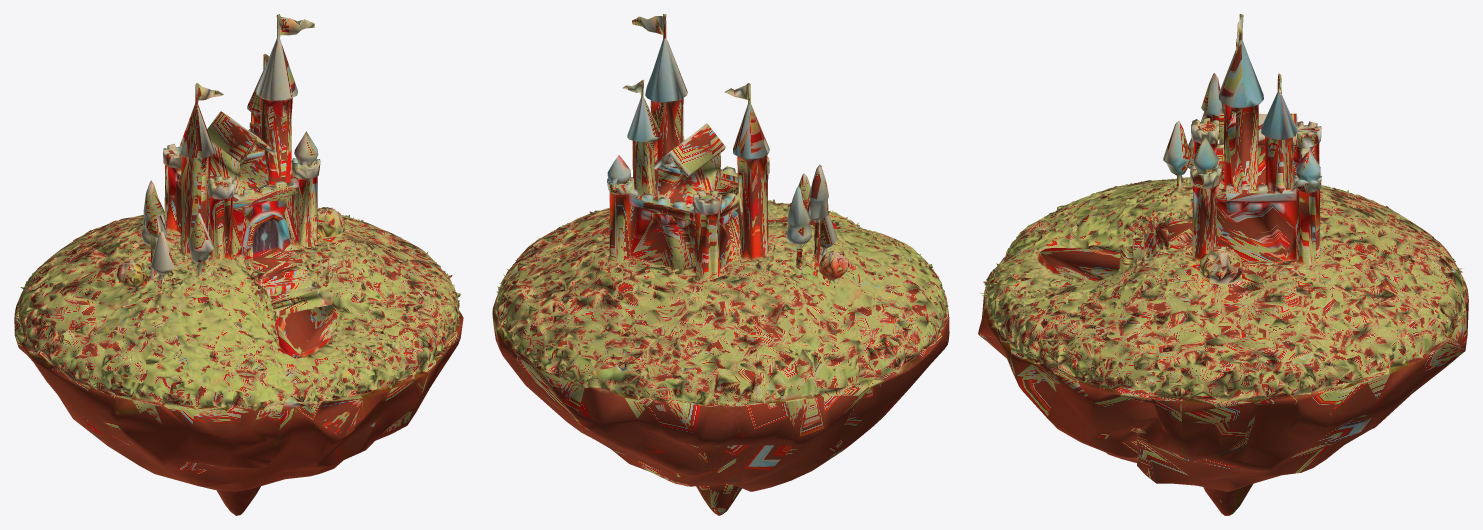
File: toyCastleIsland.df8dcbc8.glb
3 renders of one model, left to right at view 1: azimuth 30°, elevation 25°; view 2: azimuth 150°, elevation 25°; view 3: azimuth 270°, elevation 25°, orthographic. The views are drawn at different scales.
Size of the model in its own units: 1.58 by 1.9 by 1.6.
Materials: 1 (1 with a texture image).
